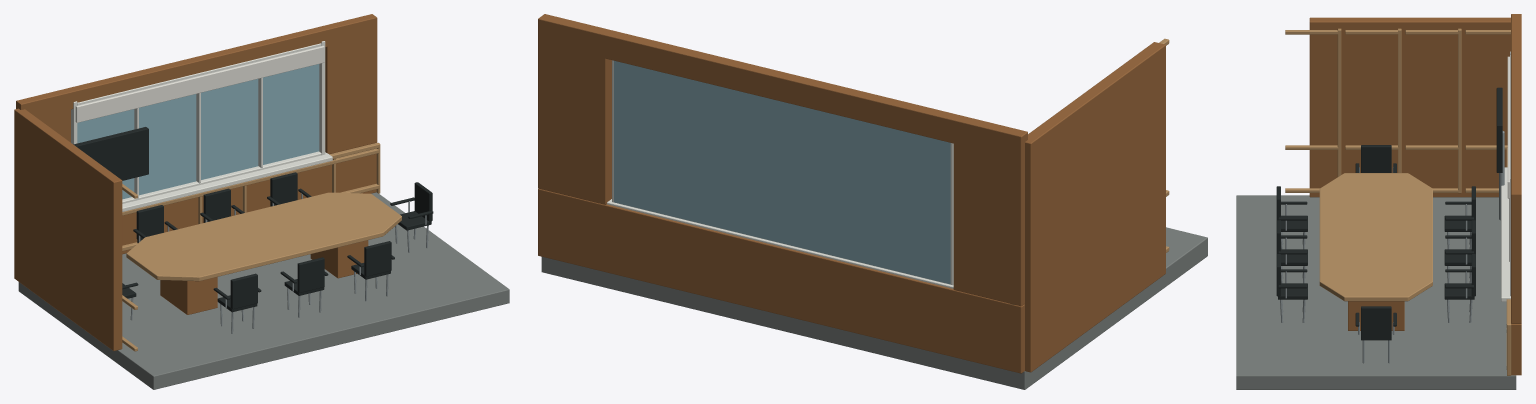
File: con-interior-0ebf0d1c23a5.glb
3 views of the same model, side by side, from view 1: azimuth 30°, elevation 25°; view 2: azimuth 150°, elevation 25°; view 3: azimuth 270°, elevation 25° (orthographic). The views are drawn at different scales.
Parts seen in each view (by area): view 1: CON.001; view 2: CON.001; view 3: CON.001.
Boxes of the visible parts, x1,y1,x2,y2 form: CON.001: (14,14,509,389); CON.001: (538,14,1207,389); CON.001: (1236,14,1521,389).
Size of the model in its own units: 6.5 by 3.24 by 4.28.
